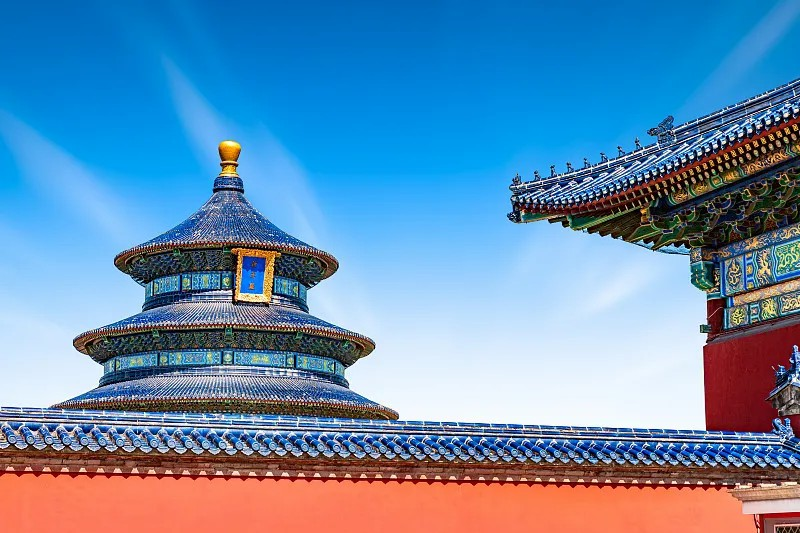Heaven: (47, 140, 402, 422)
